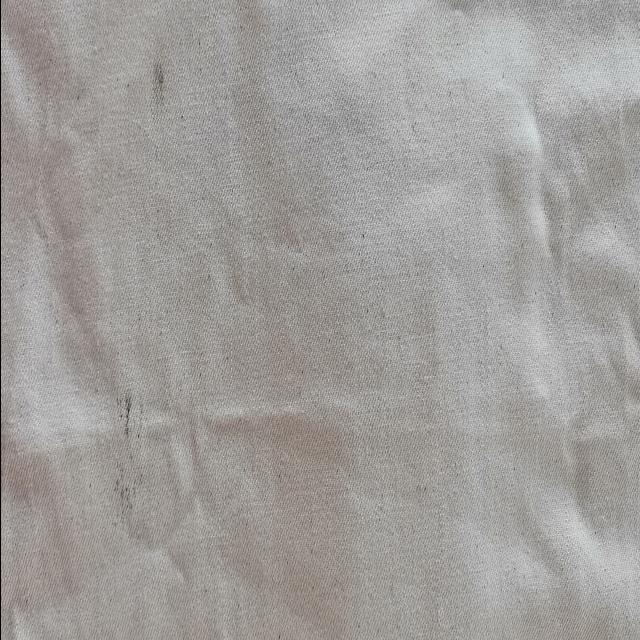taaaches: (104, 390, 154, 566), (132, 50, 180, 136)
